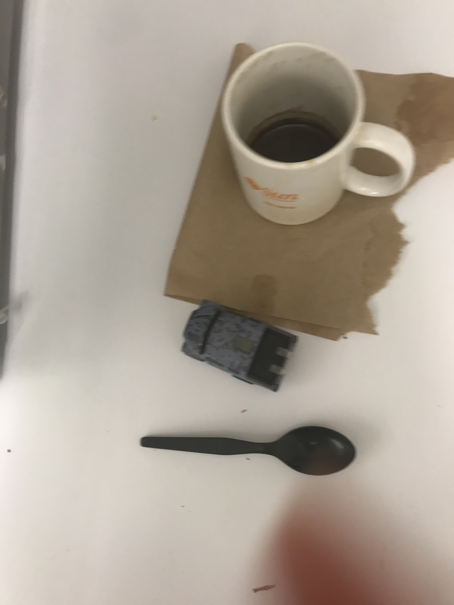MXT: (179, 298, 299, 391)
